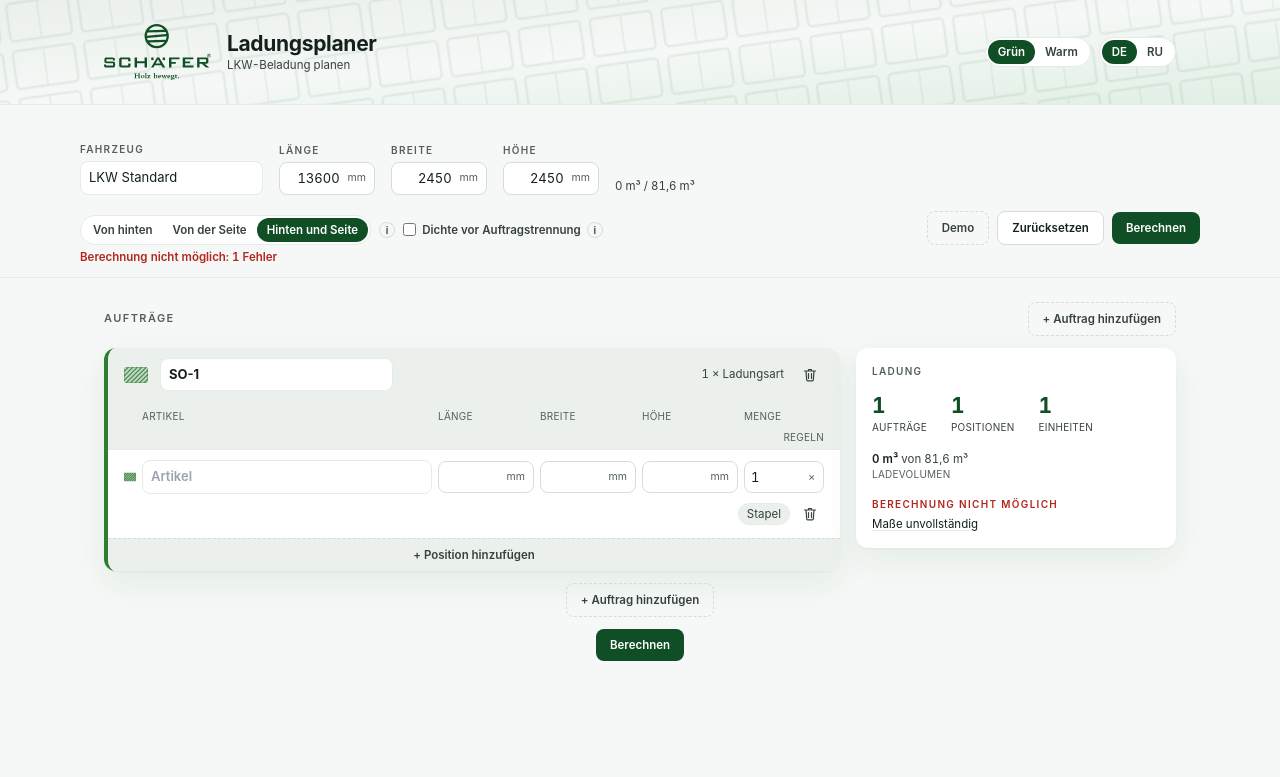
Test case: SetupScreen › defaults the nesting mode to pairwise once Ver is selected in the panel (E5)
Click the button with test id "rule-chip" at point(764, 514), box x1=738 y1=503 x2=790 y2=525
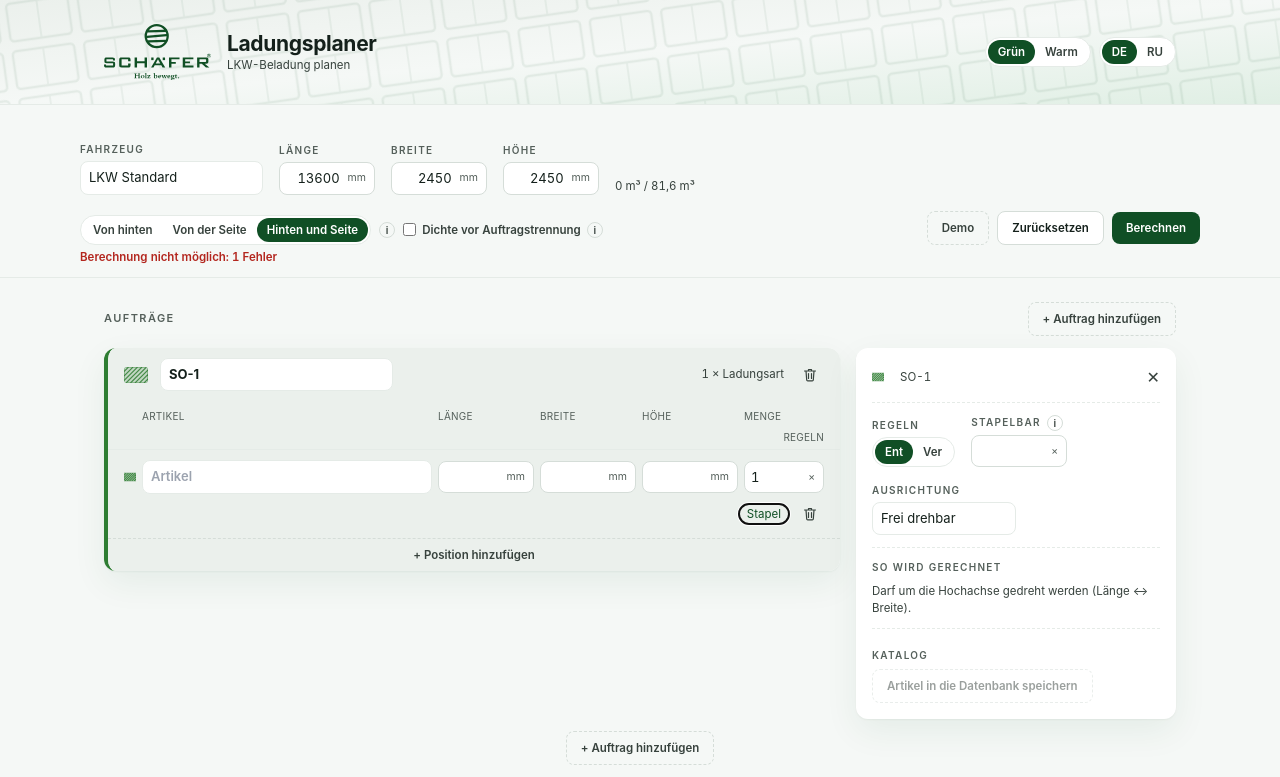
Click the button "Ver" at point(933, 452), box x1=913 y1=440 x2=952 y2=464
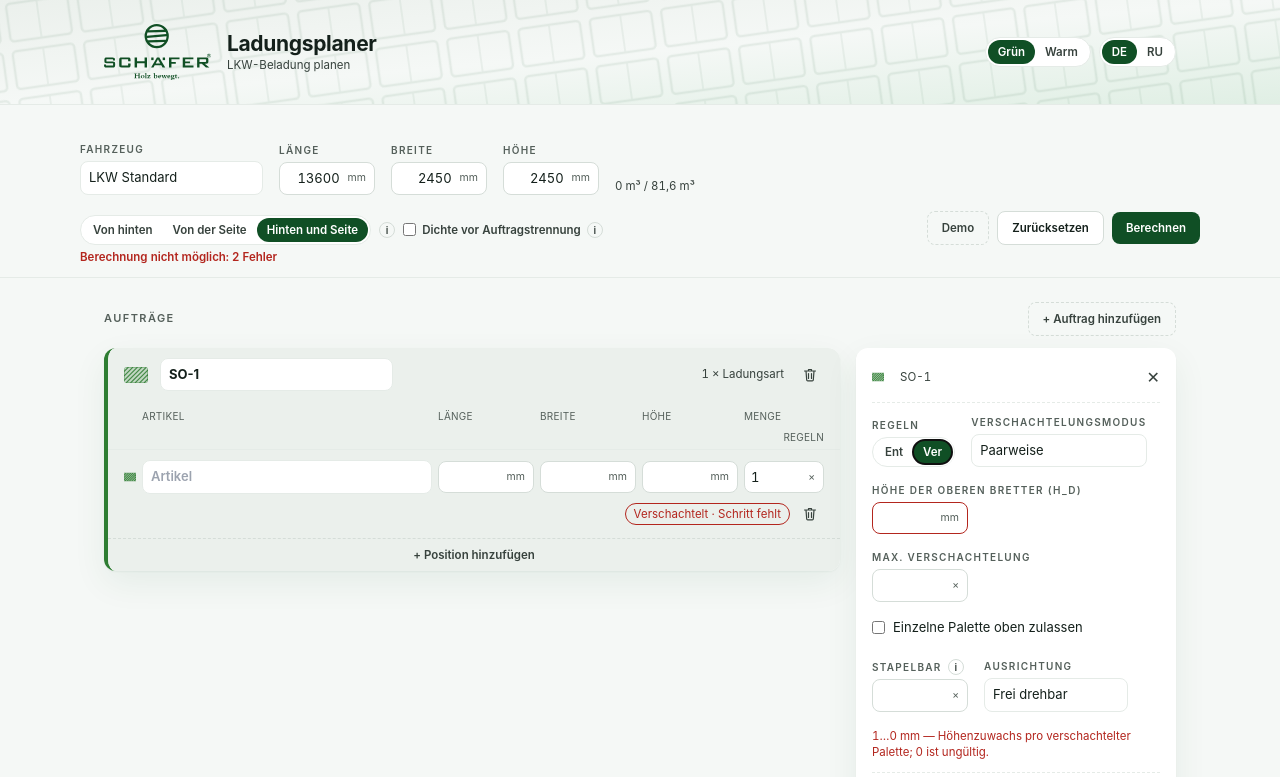
Expected: the dropdown labelled "Verschachtelungsmodus" shows "Paarweise", x1=971 y1=434 x2=1146 y2=467
Expected: the text "Höhe der oberen Bretter (h_d)" is shown, x1=872 y1=483 x2=1082 y2=498
Expected: the text "Einzelne Palette oben zulassen" is shown, x1=872 y1=618 x2=1083 y2=643
